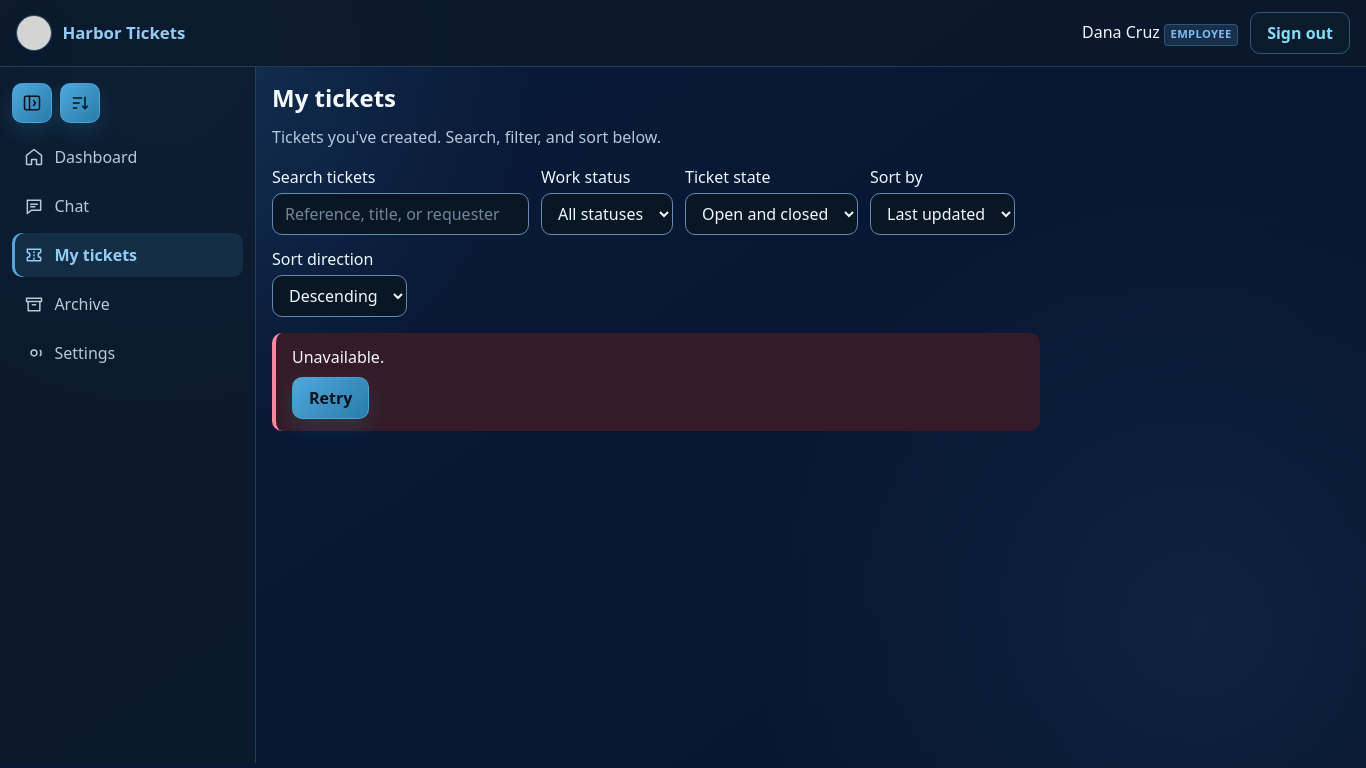
Scenario: my tickets (employee ticket view) › shows an empty state and a retryable error
This screenshot has width=1366, height=768.
Click the button "Retry" at (331, 398), box [292,377,369,419]
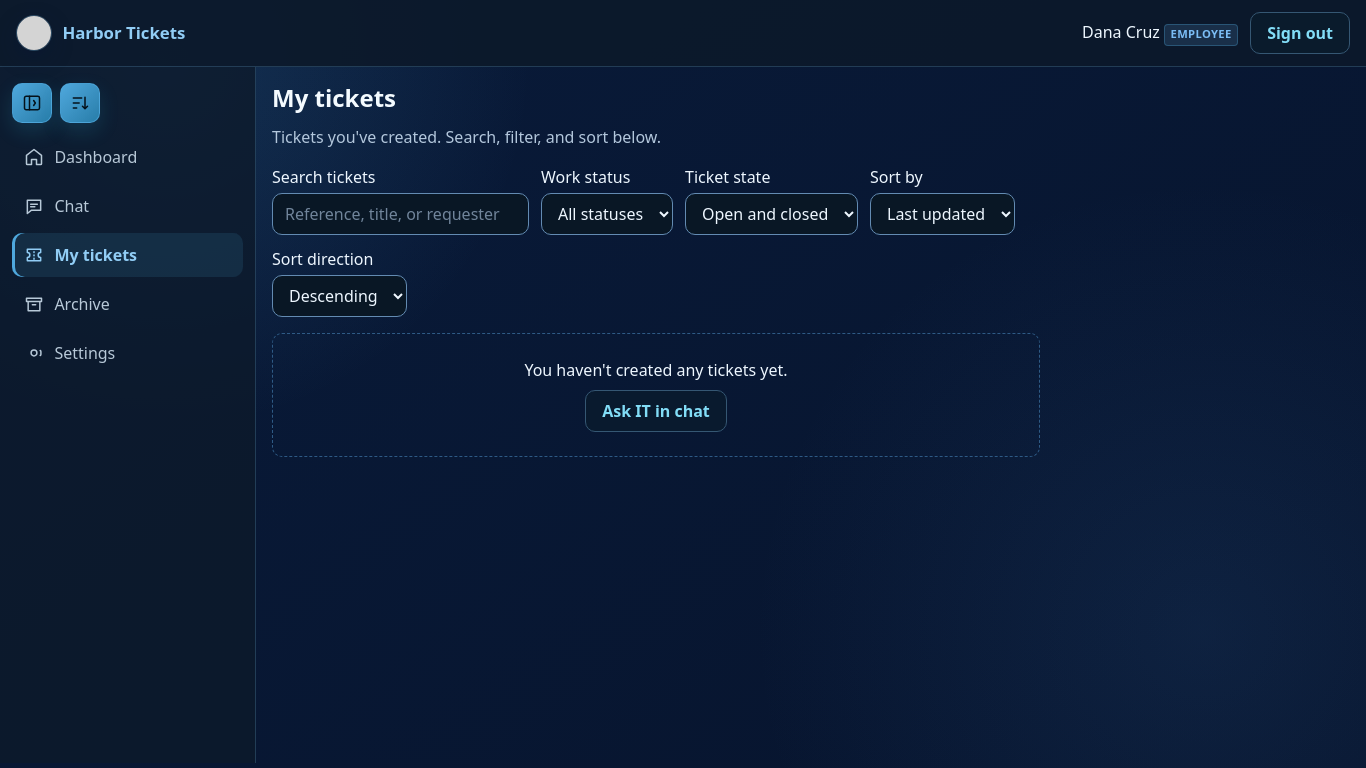
Check: the text "You haven't created any tickets yet." is shown, box [524,359,788,381]
